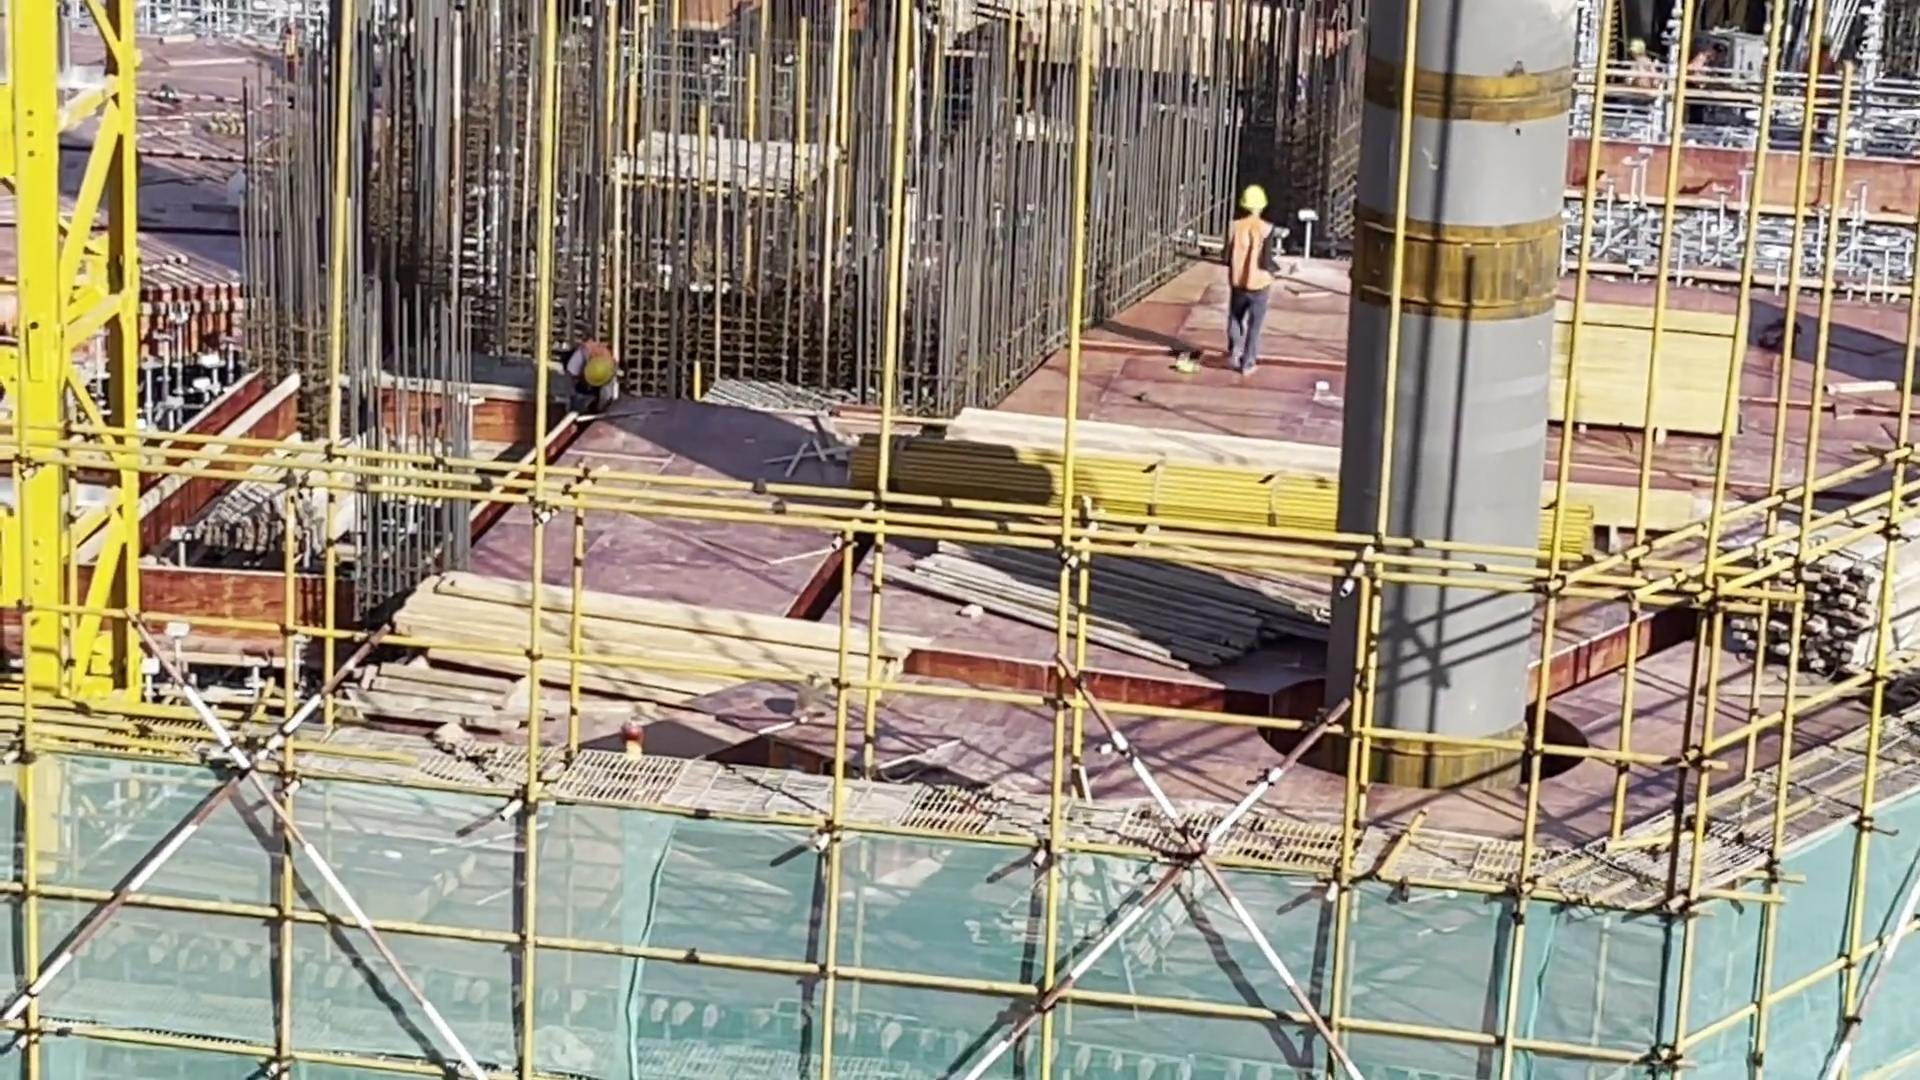board: (1541, 270, 1734, 455)
helmet: (582, 347, 615, 390), (1237, 183, 1271, 219), (1629, 36, 1647, 55)
person: (1219, 180, 1288, 380), (559, 336, 629, 418), (1683, 34, 1734, 120), (1625, 33, 1665, 123), (1793, 34, 1848, 90)
vest: (1228, 217, 1280, 294)
wood: (394, 567, 877, 724), (1695, 499, 1920, 685)
